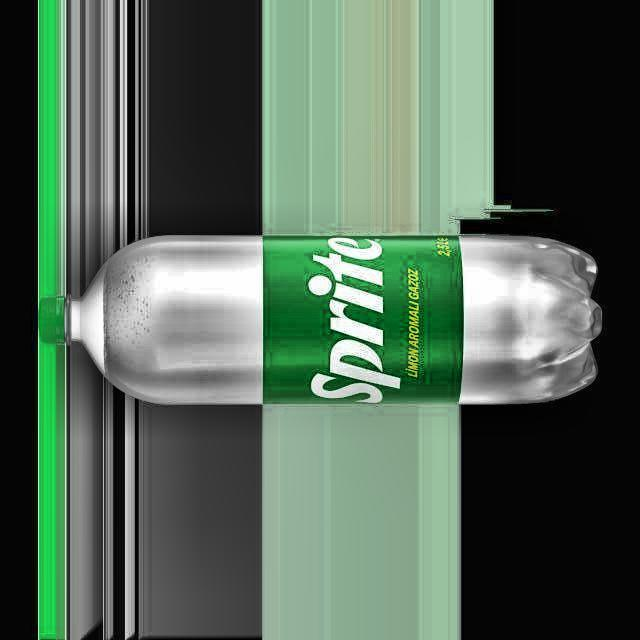plastic: (40, 235, 601, 403)
